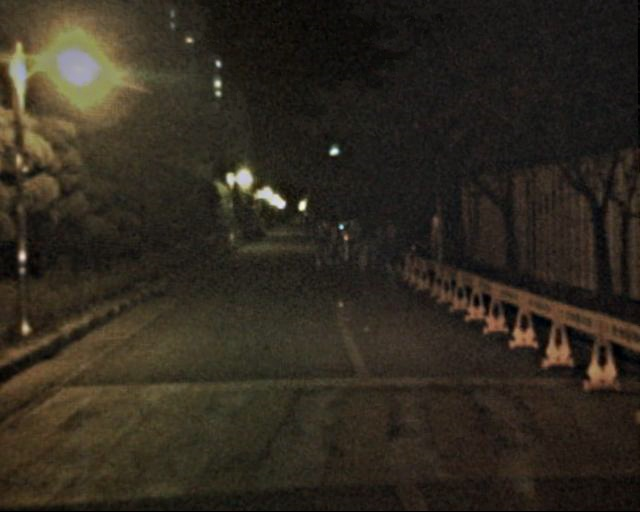person: (380, 228, 405, 289), (352, 227, 373, 278), (369, 220, 390, 270), (342, 216, 361, 262), (309, 222, 327, 267), (324, 221, 341, 262)
